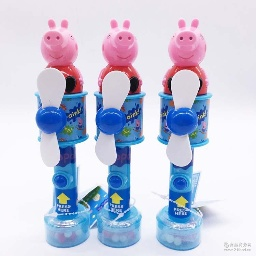Peppa: (37, 19, 85, 93), (164, 18, 209, 95), (97, 19, 143, 93)
